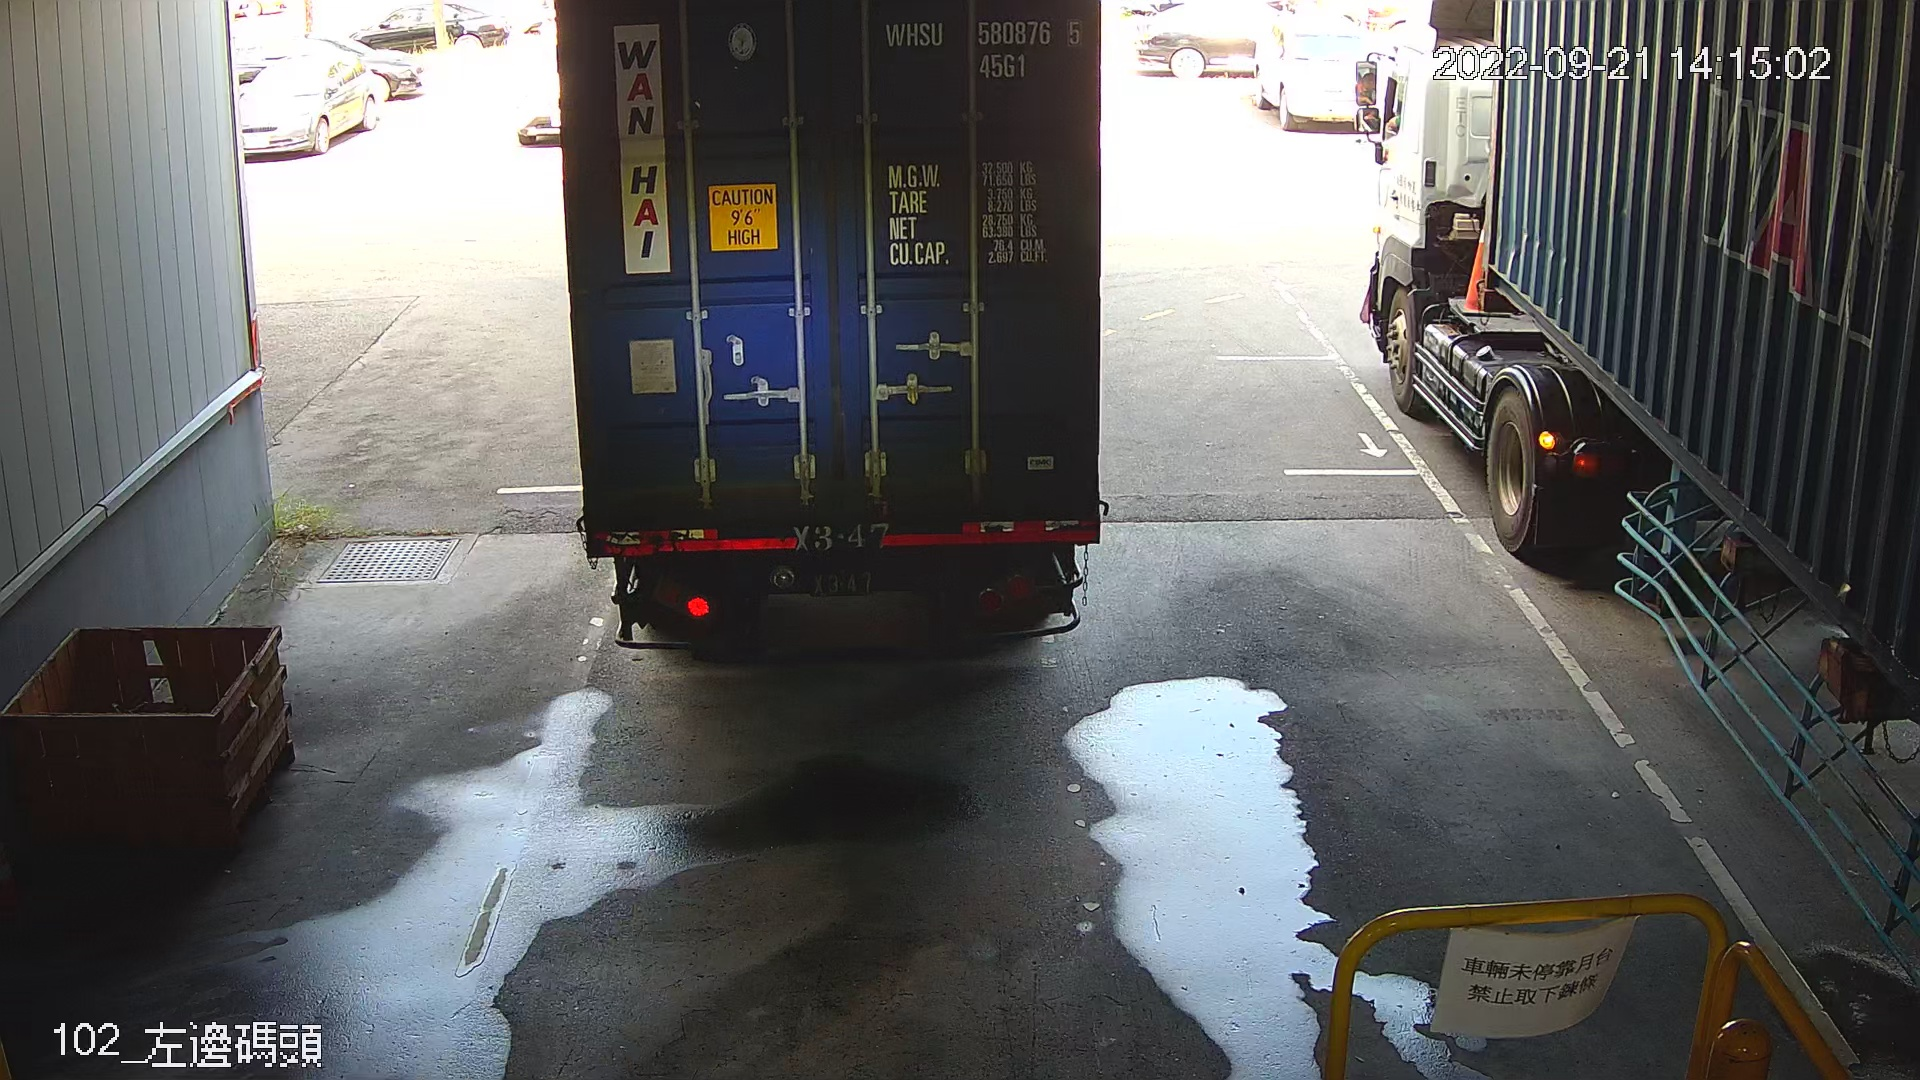container: (880, 11, 1088, 86)
